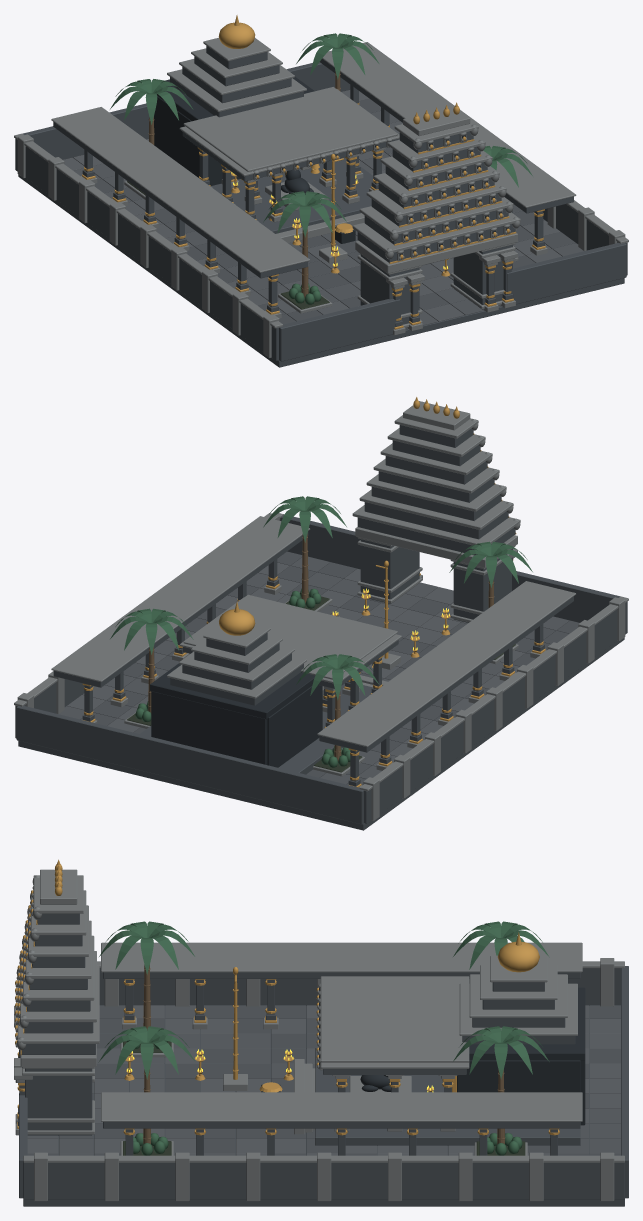
Rendered from sri-shivan-alayam.glb.
The picture shows the model from 3 angles, top to bottom: view 1: azimuth 30°, elevation 25°; view 2: azimuth 150°, elevation 25°; view 3: azimuth 270°, elevation 25°; orthographic projection. The views are drawn at different scales.
Parts seen in each view (by area): view 1: Temple_Architecture_Detail_Mesh, Gopuram_Main, Courtyard_Detail_Mesh, Mandapam_Detail_Mesh, Sanctum_Detail_Mesh, Vegetation_Detail_Mesh, Nandi_Main, Mandapam_Pillar.006, Corridor_Pillar.006; view 2: Temple_Architecture_Detail_Mesh, Gopuram_Main, Courtyard_Detail_Mesh, Sanctum_Detail_Mesh, Vegetation_Detail_Mesh, Mandapam_Detail_Mesh; view 3: Temple_Architecture_Detail_Mesh, Courtyard_Detail_Mesh, Gopuram_Main, Sanctum_Detail_Mesh, Mandapam_Detail_Mesh, Vegetation_Detail_Mesh, Nandi_Main, Pillar_Master.004, Corridor_Pillar, Corridor_Pillar.001.
Boxes of the visible parts, <box> form: Temple_Architecture_Detail_Mesh: <box>14,42,628,361</box>; Gopuram_Main: <box>352,102,520,335</box>; Courtyard_Detail_Mesh: <box>18,90,624,367</box>; Mandapam_Detail_Mesh: <box>179,87,399,181</box>; Sanctum_Detail_Mesh: <box>154,15,314,185</box>; Vegetation_Detail_Mesh: <box>110,33,532,313</box>; Nandi_Main: <box>265,169,328,210</box>; Mandapam_Pillar.006: <box>342,154,359,203</box>; Corridor_Pillar.006: <box>530,209,547,255</box>; Temple_Architecture_Detail_Mesh: <box>14,513,628,824</box>; Gopuram_Main: <box>352,397,520,622</box>; Courtyard_Detail_Mesh: <box>18,551,624,830</box>; Sanctum_Detail_Mesh: <box>150,601,322,767</box>; Vegetation_Detail_Mesh: <box>110,496,532,776</box>; Mandapam_Detail_Mesh: <box>179,594,401,688</box>; Temple_Architecture_Detail_Mesh: <box>19,942,628,1201</box>; Courtyard_Detail_Mesh: <box>23,1005,624,1206</box>; Gopuram_Main: <box>14,859,99,1135</box>; Sanctum_Detail_Mesh: <box>452,932,585,1125</box>; Mandapam_Detail_Mesh: <box>316,976,469,1074</box>; Vegetation_Detail_Mesh: <box>98,921,549,1155</box>; Nandi_Main: <box>349,1075,411,1092</box>; Pillar_Master.004: <box>122,979,136,1029</box>; Corridor_Pillar: <box>192,979,207,1029</box>; Corridor_Pillar.001: <box>263,979,278,1029</box>.
Bounding box in the file's own units: 26.8 × 14.93 × 34.75.
